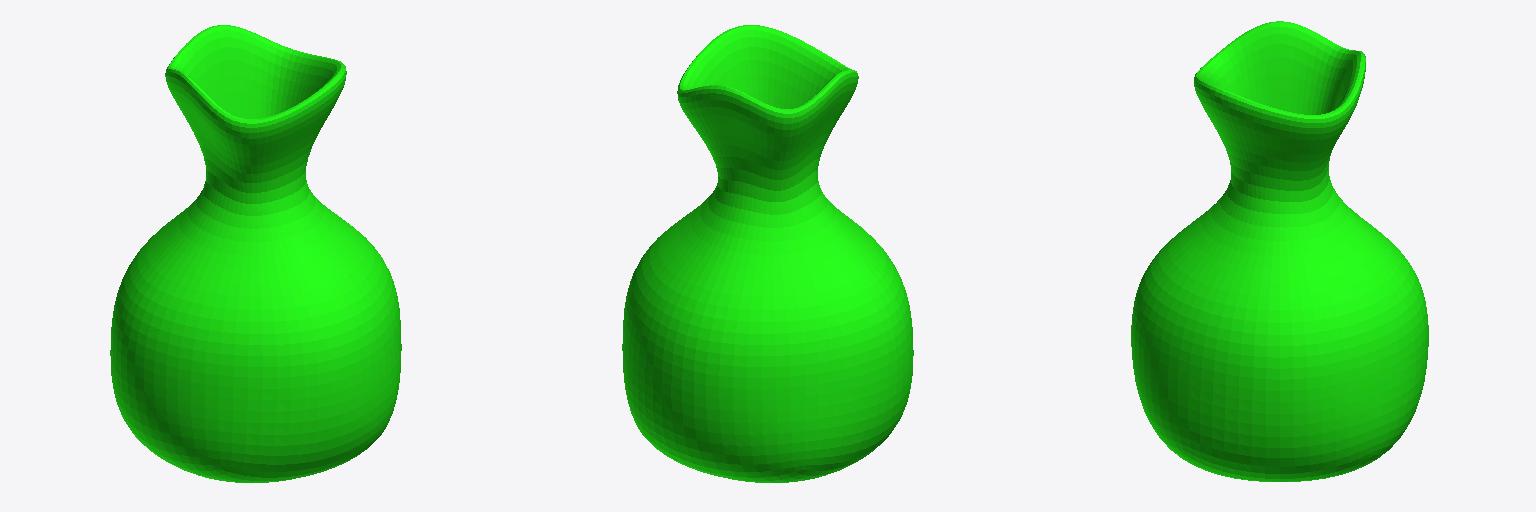
The model's file is pouch_kangkung.obj.
The picture shows the model from 3 angles: view 1: azimuth 30°, elevation 25°; view 2: azimuth 150°, elevation 25°; view 3: azimuth 270°, elevation 25°; orthographic projection.
Parts seen in each view (by area): view 1: Cube.001; view 2: Cube.001; view 3: Cube.001.
Boxes of the visible parts, x1,y1,x2,y2 form: Cube.001: [110, 25, 401, 482]; Cube.001: [622, 25, 913, 482]; Cube.001: [1131, 21, 1428, 481].
Size of the model in its own units: 0.2653 by 0.3925 by 0.2653.